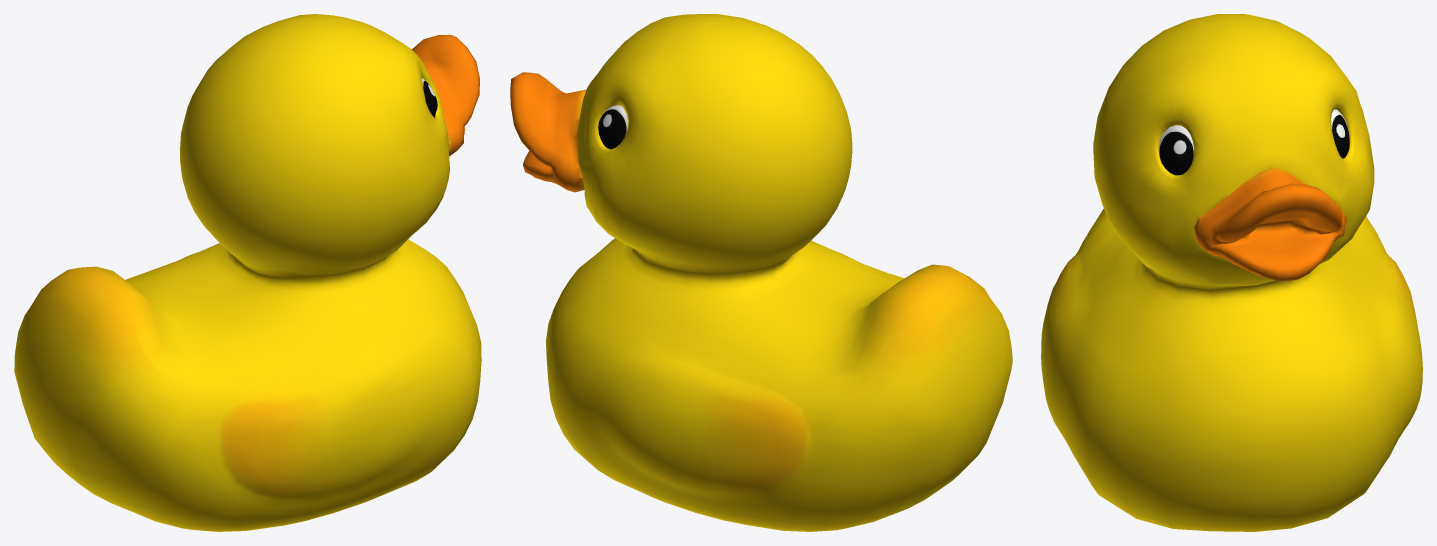
Rendered from duck.glb.
3 views of the same model, side by side, from view 1: azimuth 30°, elevation 25°; view 2: azimuth 150°, elevation 25°; view 3: azimuth 270°, elevation 25° (orthographic). The views are drawn at different scales.
Visible parts, largest first — view 1: LOD3spShape; view 2: LOD3spShape; view 3: LOD3spShape.
Boxes of the visible parts, x1,y1,x2,y2 form: LOD3spShape: (14,14,481,531); LOD3spShape: (510,14,1012,531); LOD3spShape: (1041,14,1422,531).
Bounding box in the file's own units: 1.65 × 1.54 × 1.15.
Materials: 1 (1 with a texture image).
